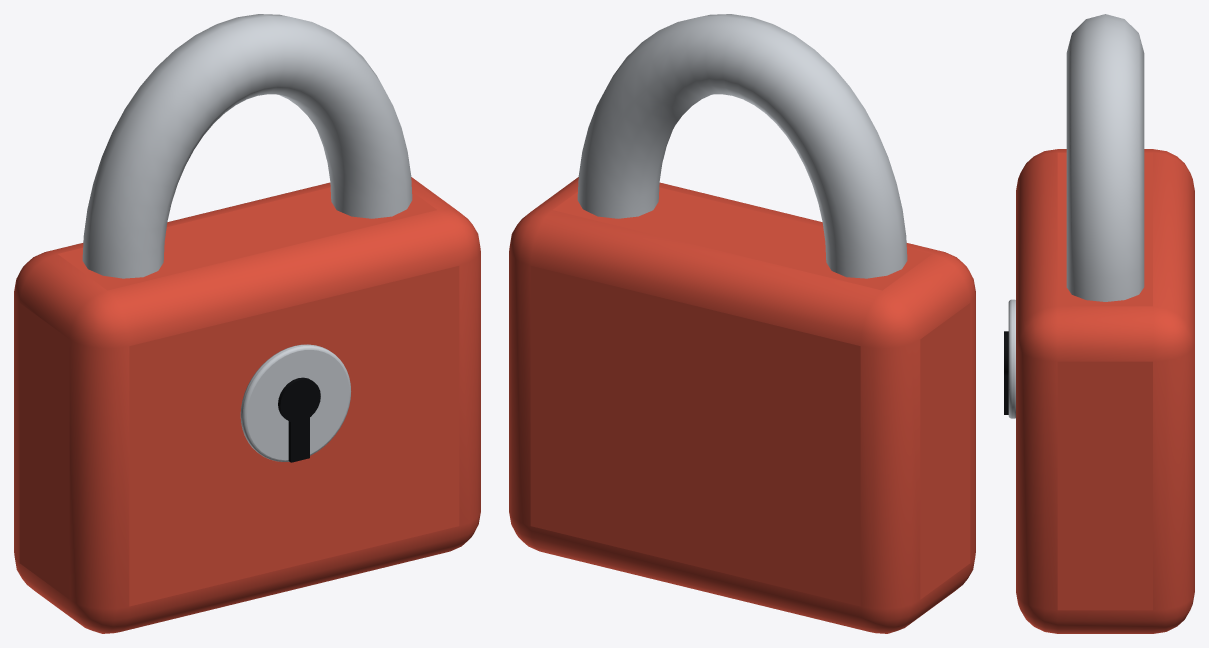
File: lock.glb
3 views of the same model, side by side, from view 1: azimuth 30°, elevation 25°; view 2: azimuth 150°, elevation 25°; view 3: azimuth 270°, elevation 25° (orthographic). The views are drawn at different scales.
Visible parts, largest first — view 1: body, shackle, keyplate, keyhole, keyslot; view 2: body, shackle; view 3: body, shackle, keyplate.
Part boxes in pixels (x1,y1,x2,y2): body: (14,177,480,633); shackle: (82,14,412,278); keyplate: (240,344,351,461); keyhole: (278,377,320,422); keyslot: (288,405,309,462); body: (509,177,975,633); shackle: (577,14,907,278); body: (1016,149,1194,633); shackle: (1066,14,1144,301); keyplate: (1008,299,1015,418).
Size of the model in its own units: 1.5 by 1.95 by 0.64.
